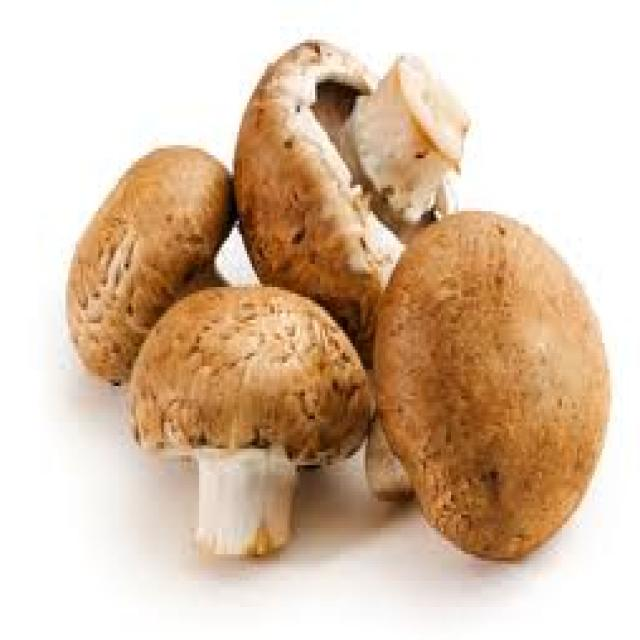mushrooms: (50, 27, 620, 597)
